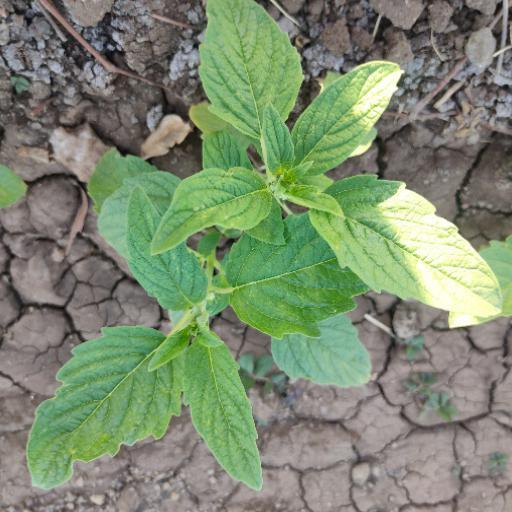crop: (18, 20, 512, 507)
